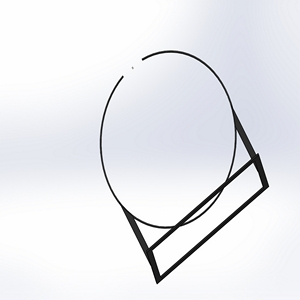circle: (97, 49, 271, 284)
